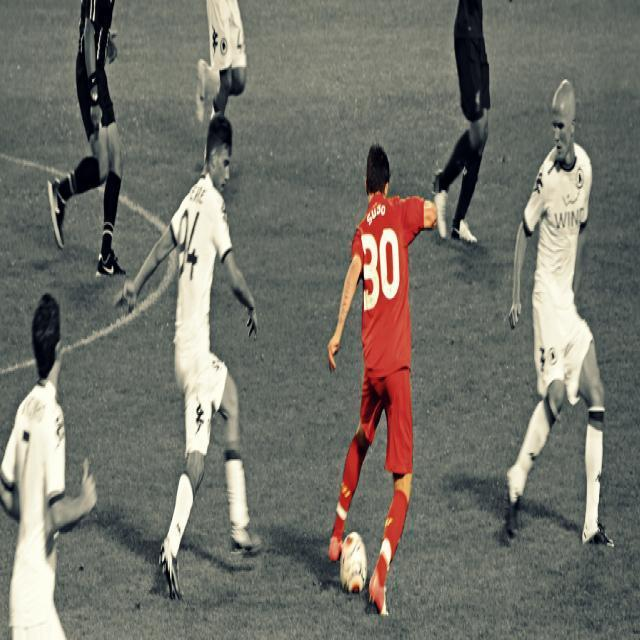football: (321, 532, 386, 595)
